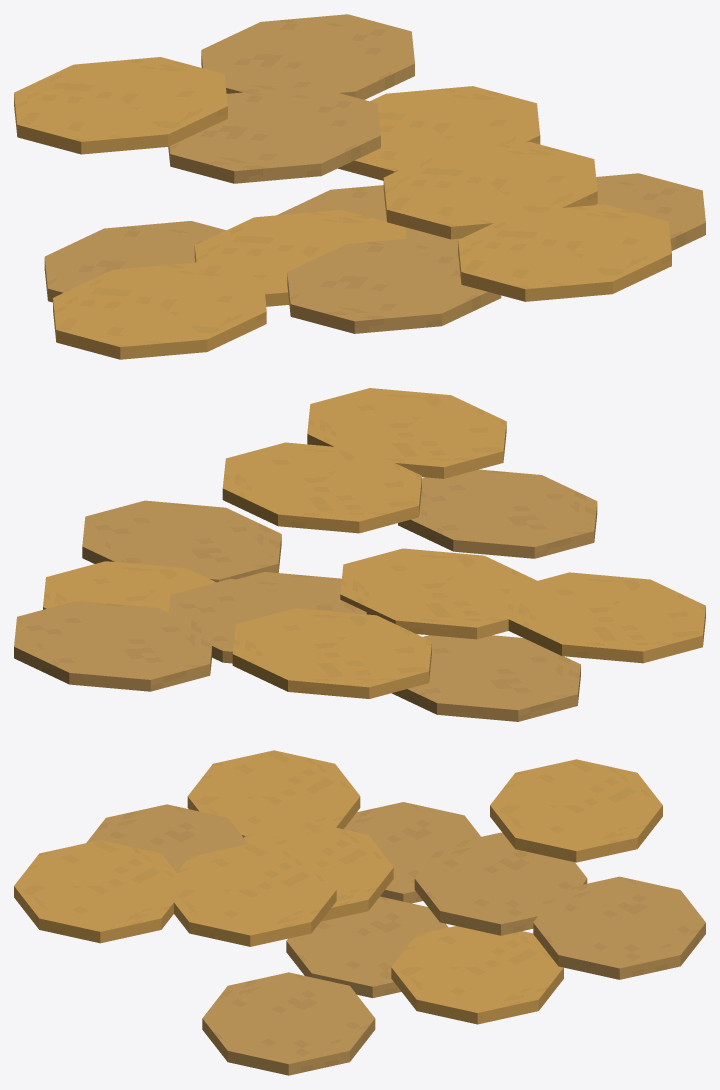
The model's file is chips.glb.
3 renders of one model, top to bottom at view 1: azimuth 30°, elevation 25°; view 2: azimuth 150°, elevation 25°; view 3: azimuth 270°, elevation 25°, orthographic. The views are drawn at different scales.
Parts seen in each view (by area): view 1: block_individual crisp (×12); view 2: block_individual crisp (×12); view 3: block_individual crisp (×12).
Part boxes in pixels (x1,y1,x2,y2): block_individual crisp (×12): (14,14,705,359); block_individual crisp (×12): (14,388,705,721); block_individual crisp (×12): (14,750,705,1075).
Bounding box in the file's own units: 0.1103 × 0.0147 × 0.1111.
1 material, 1 textured.
